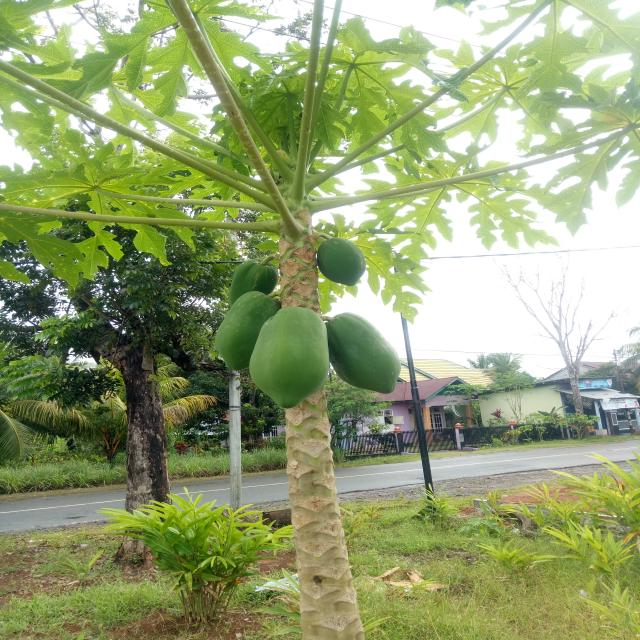Pepaya unrippen: (254, 310, 328, 408), (334, 315, 402, 403), (214, 292, 268, 376), (318, 240, 365, 289)
